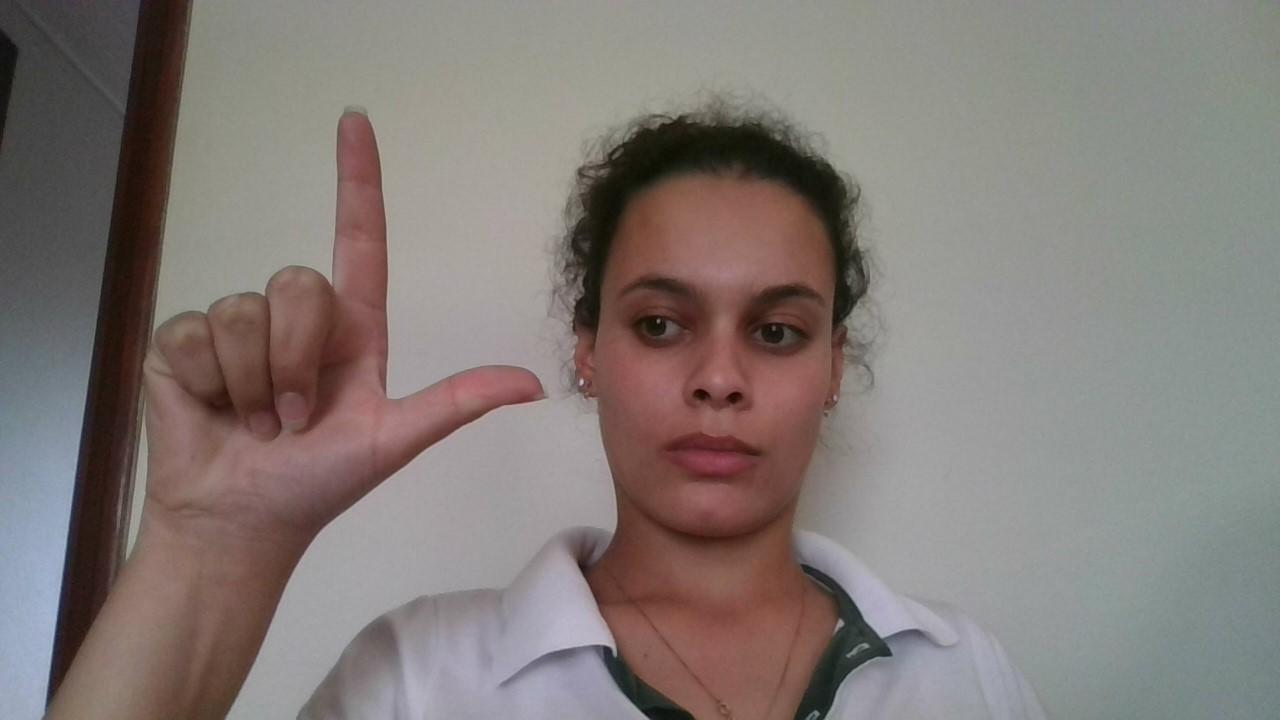L: (136, 102, 550, 518)
